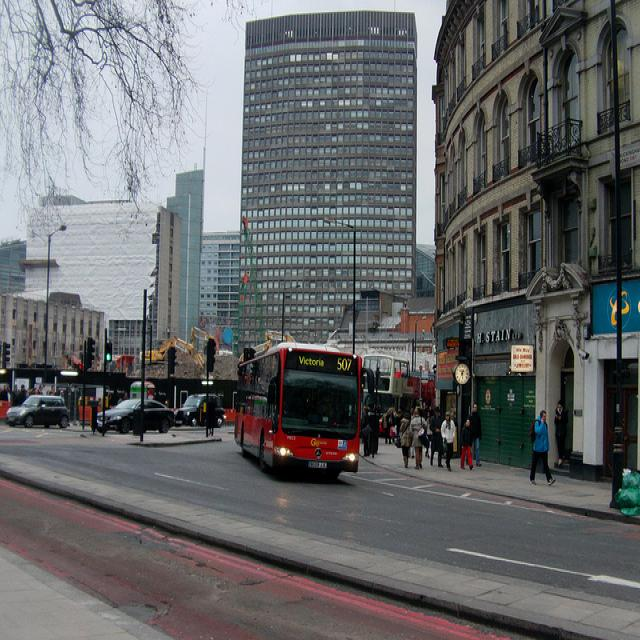Vehicle: (234, 343, 362, 482), (362, 355, 437, 419), (96, 399, 174, 434), (7, 395, 70, 429), (173, 394, 227, 429)
